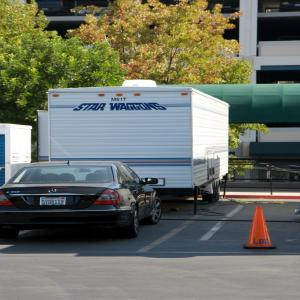Vehicle-registration-plate: (41, 196, 66, 206)
